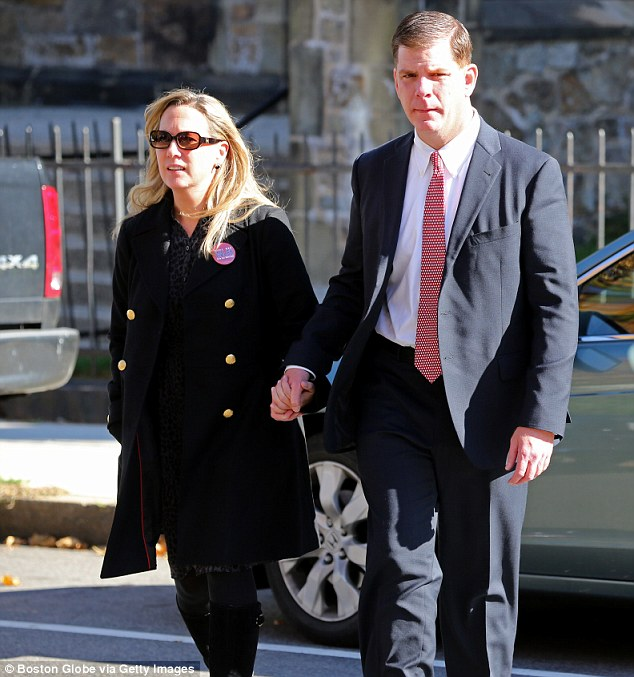Person: (323, 14, 576, 677), (101, 92, 295, 676)
